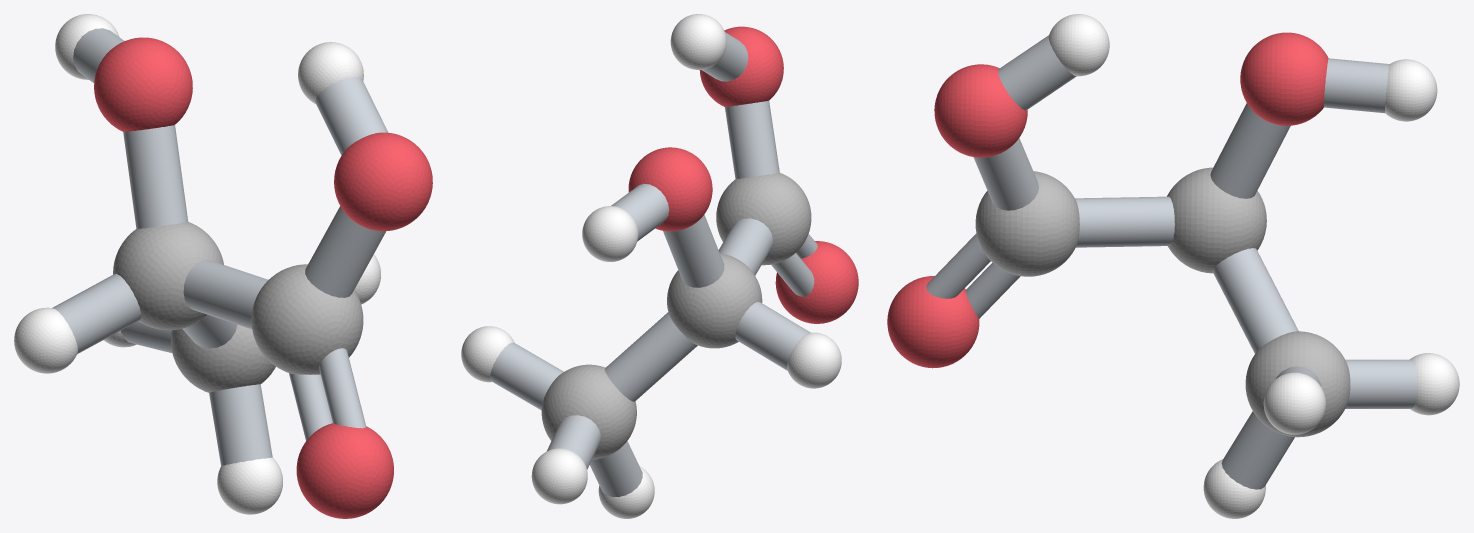
File: Lactico.glb
3 views of the same model, side by side, from view 1: azimuth 30°, elevation 25°; view 2: azimuth 150°, elevation 25°; view 3: azimuth 270°, elevation 25° (orthographic). The views are drawn at different scales.
Size of the model in its own units: 3.49 by 4.41 by 4.59.
